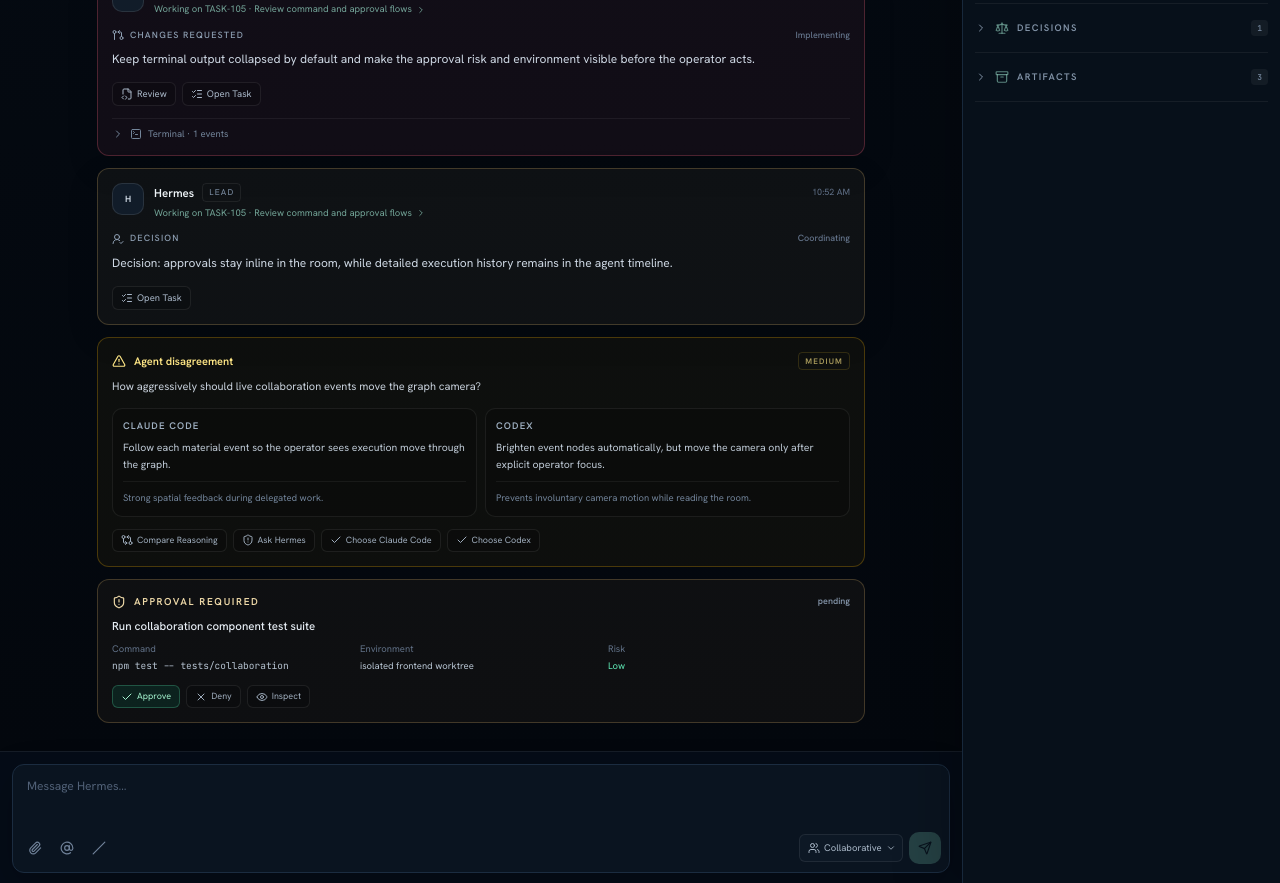
Test case: CollaborationComposer — Lisa-first defaults › clears the direct-worker indicator after sending an @mention message and returning to a normal message
(page scrolled)
Type "@Cod" into the text box named "Collaboration message" at (481, 797), box [21,773,941,821]
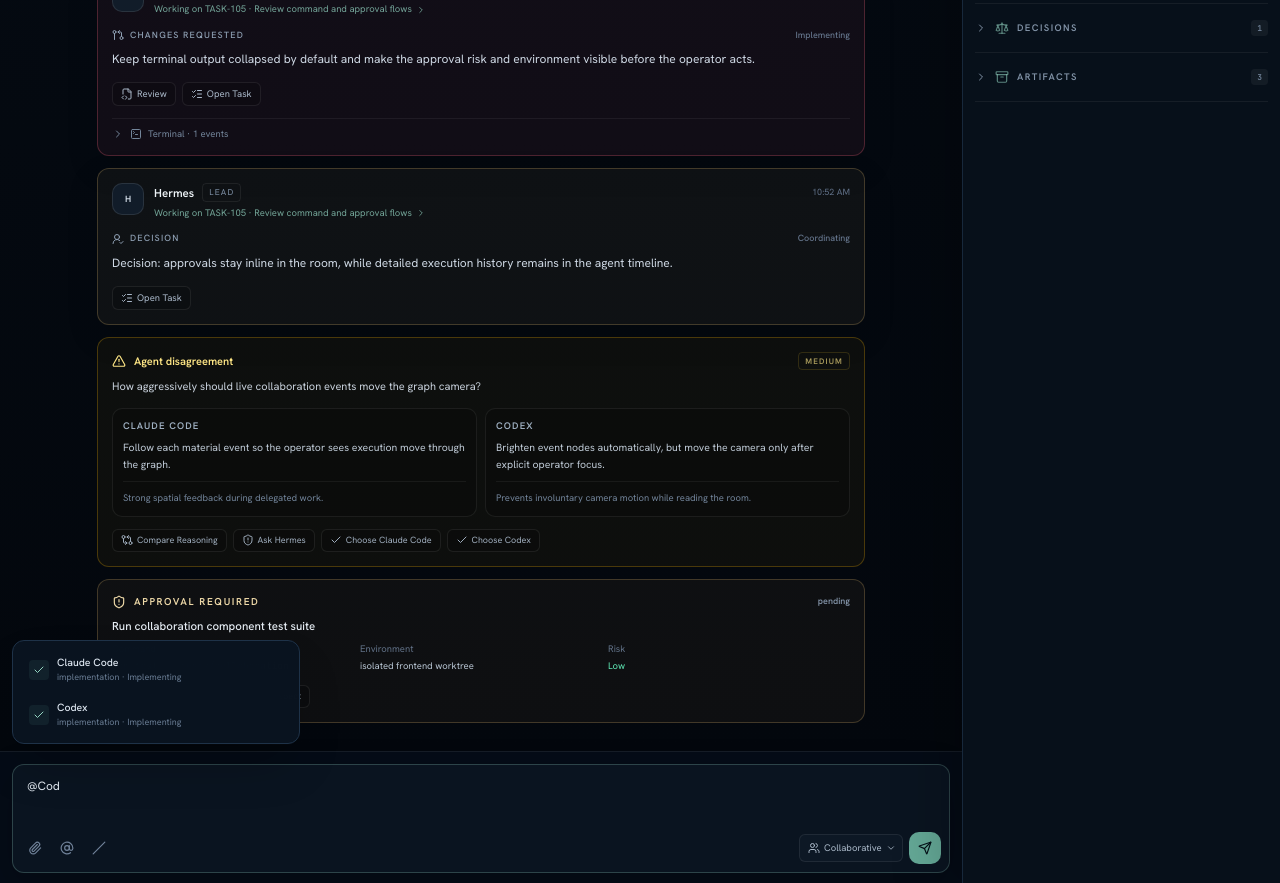
Click the option "Codex implementation · Implementing" at (156, 715), box [19,692,293,738]
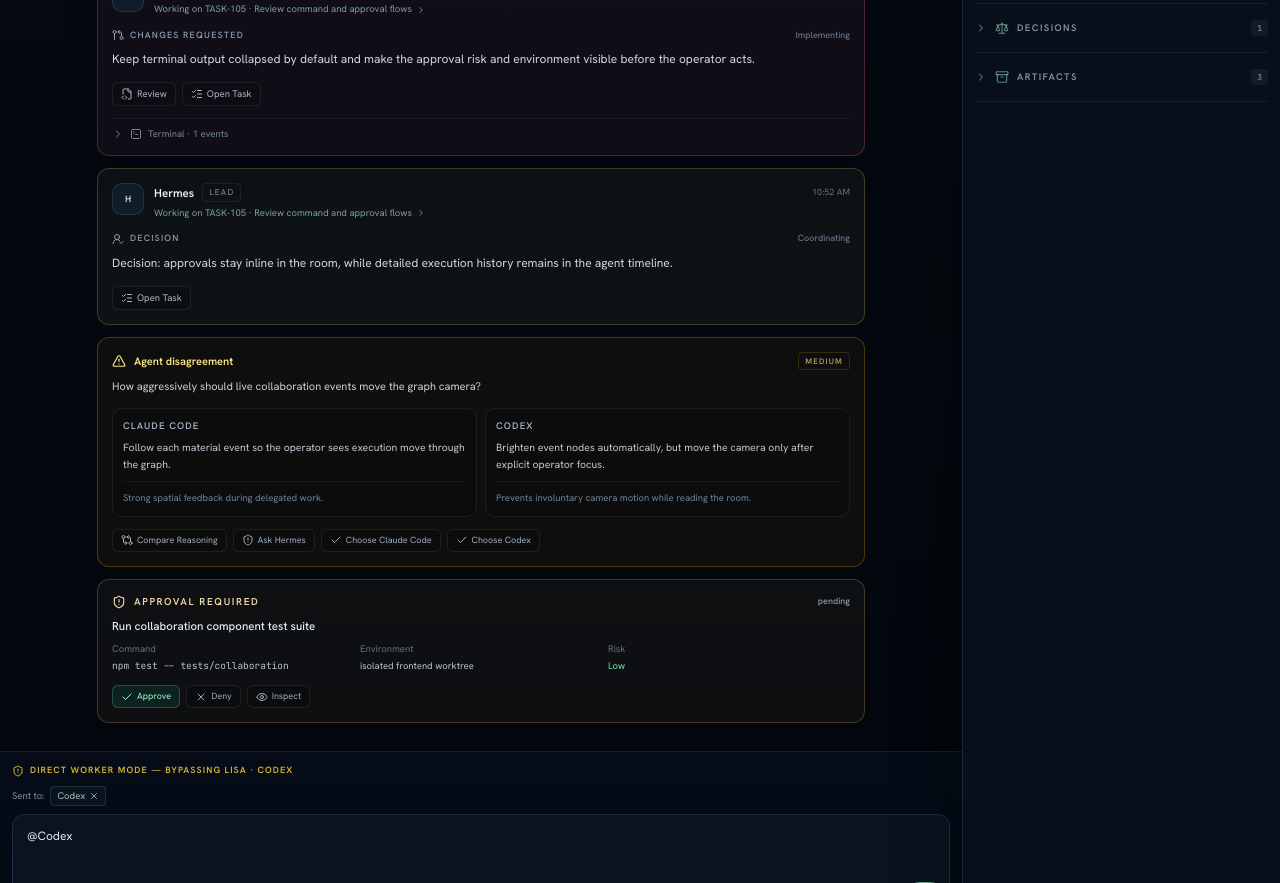
Type "please inspect the approval flow" into the text box named "Collaboration message" at (481, 847), box [21,823,941,871]
(page scrolled)
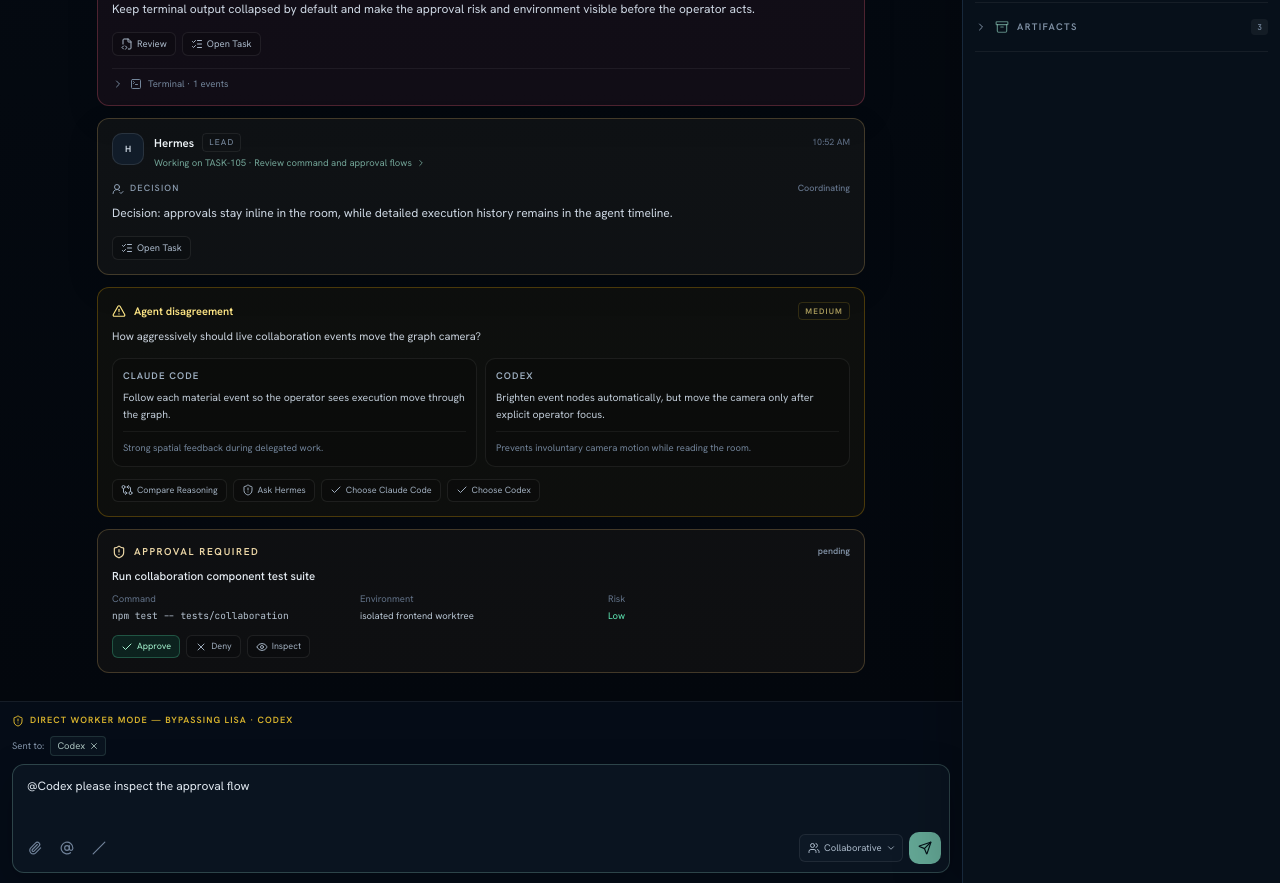
Click the button named "Send collaboration message" at (925, 848), box [909,832,941,864]
(page scrolled)
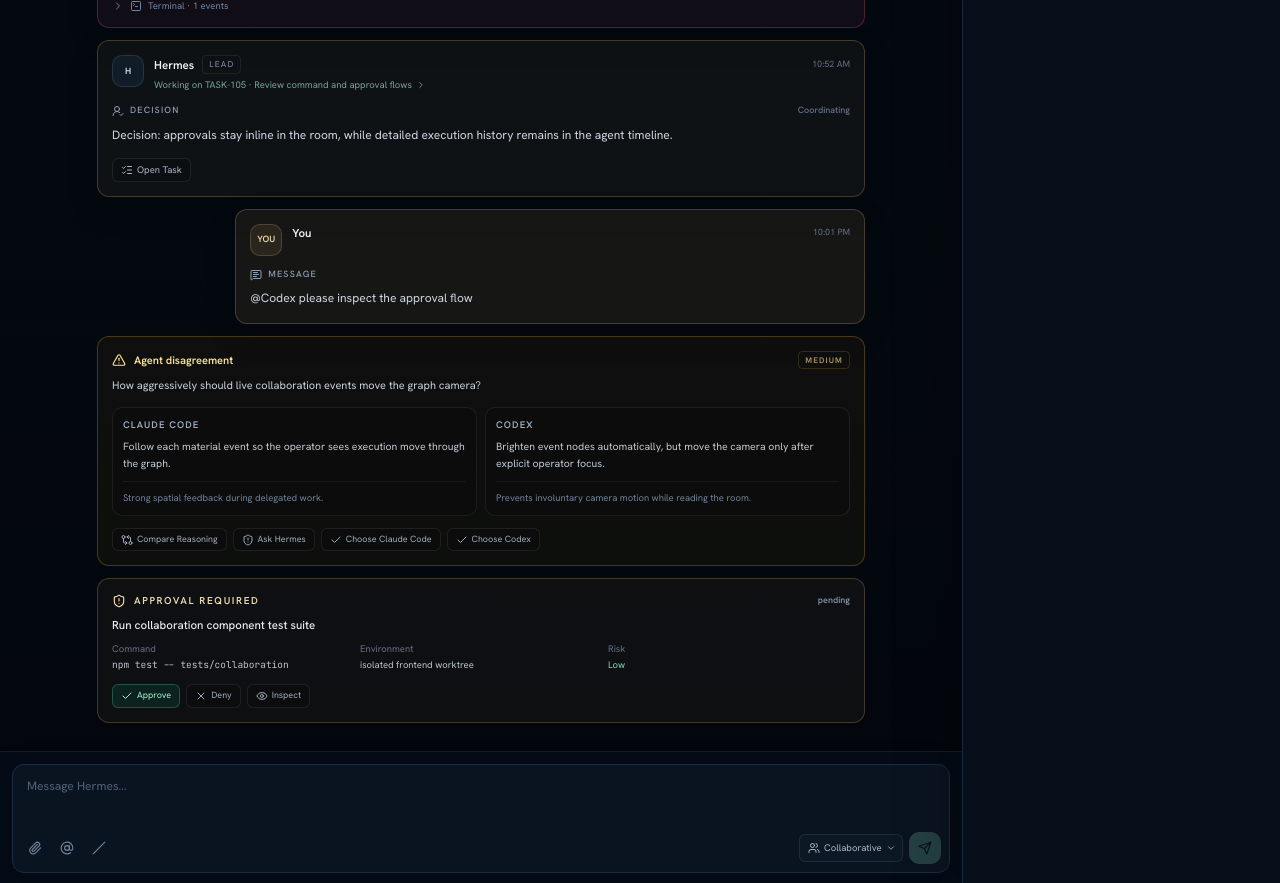
Result: the message "Direct worker mode — bypassing Lisa · Codex" is gone
